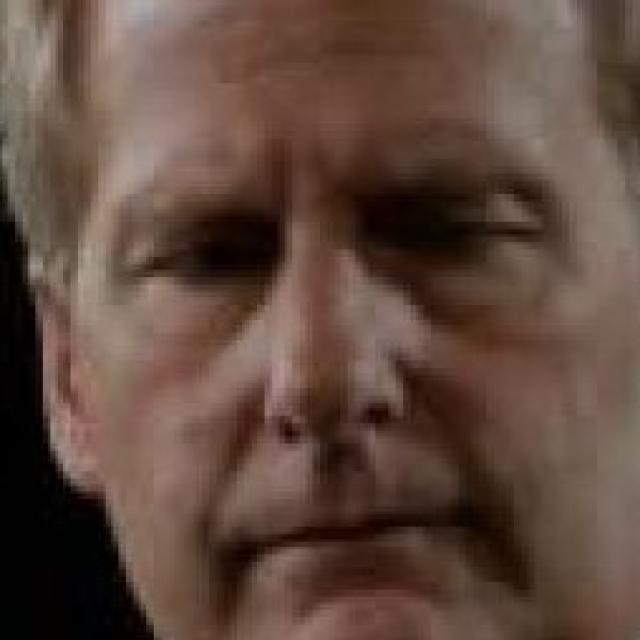Depress: (66, 3, 638, 637)
